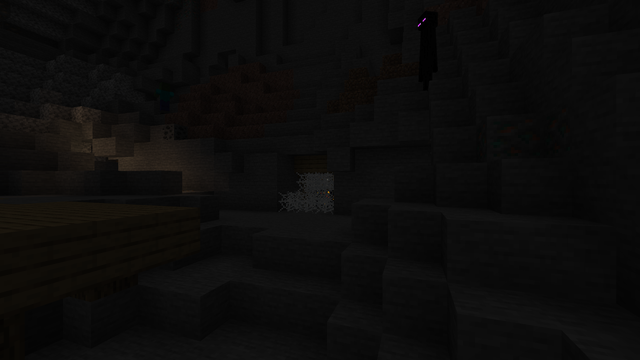endermens: (418, 6, 436, 91)
zombies: (157, 82, 171, 114)
